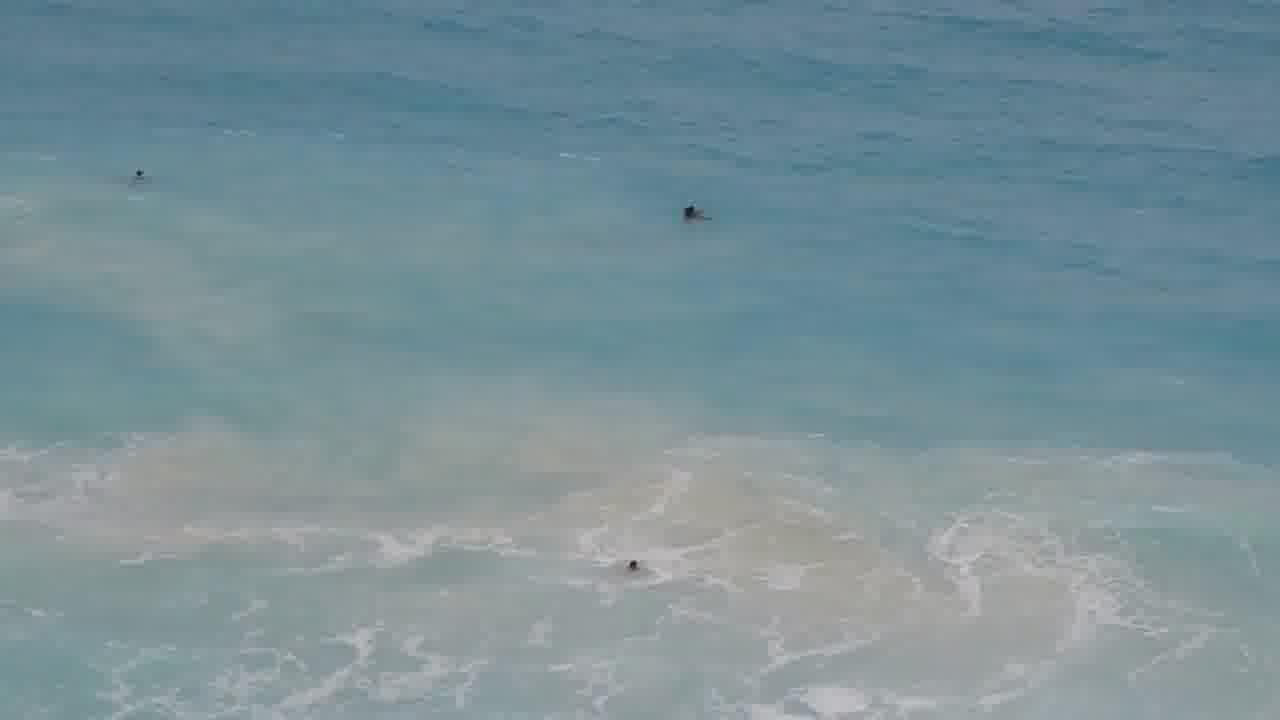swimmer: (665, 192, 718, 230), (617, 547, 652, 582), (122, 161, 153, 187)
